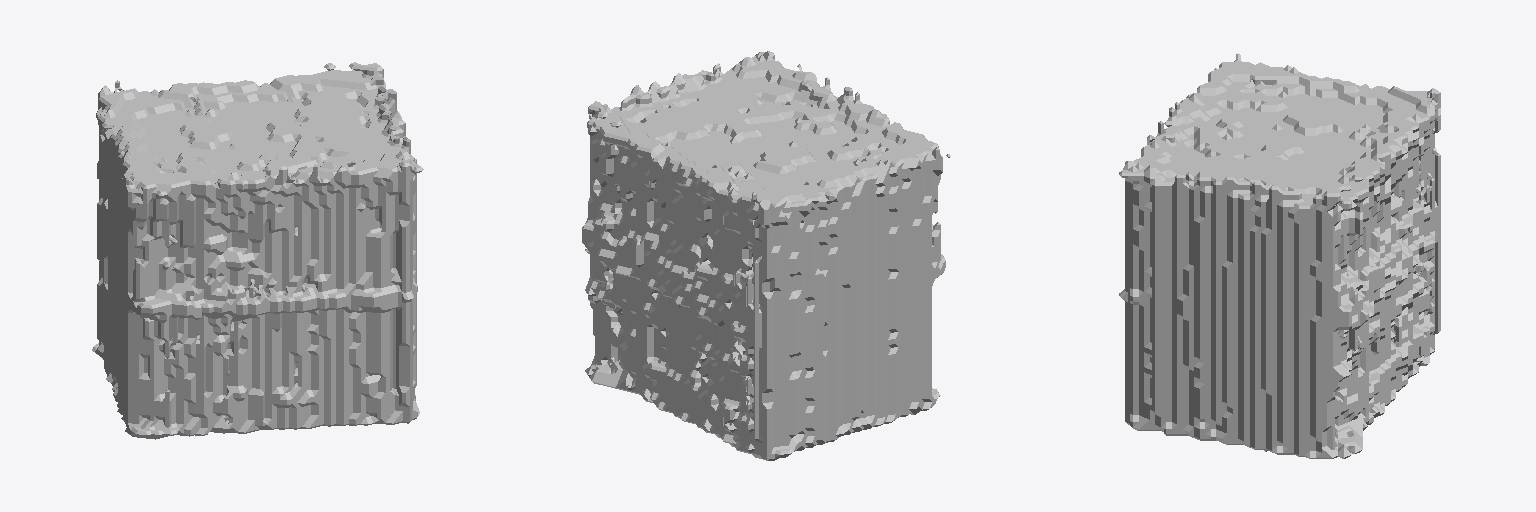
The model's file is gen2_colored.obj.
3 renders of one model, left to right at view 1: azimuth 30°, elevation 25°; view 2: azimuth 150°, elevation 25°; view 3: azimuth 270°, elevation 25°, orthographic.
Parts seen in each view (by area): view 1: gen2.obj; view 2: gen2.obj; view 3: gen2.obj.
Part boxes in pixels (left/top/right/bottom): gen2.obj: left=92, top=62, right=423, bottom=439; gen2.obj: left=582, top=51, right=950, bottom=460; gen2.obj: left=1119, top=53, right=1440, bottom=458.
Bounding box in the file's own units: 63 × 54 × 58.